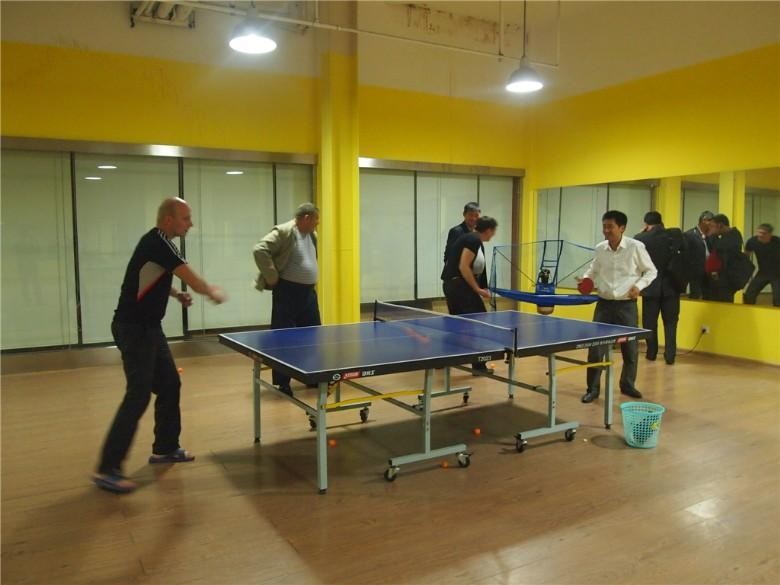ball: (437, 459, 450, 470), (326, 436, 337, 448), (470, 425, 481, 435), (174, 364, 183, 374)
